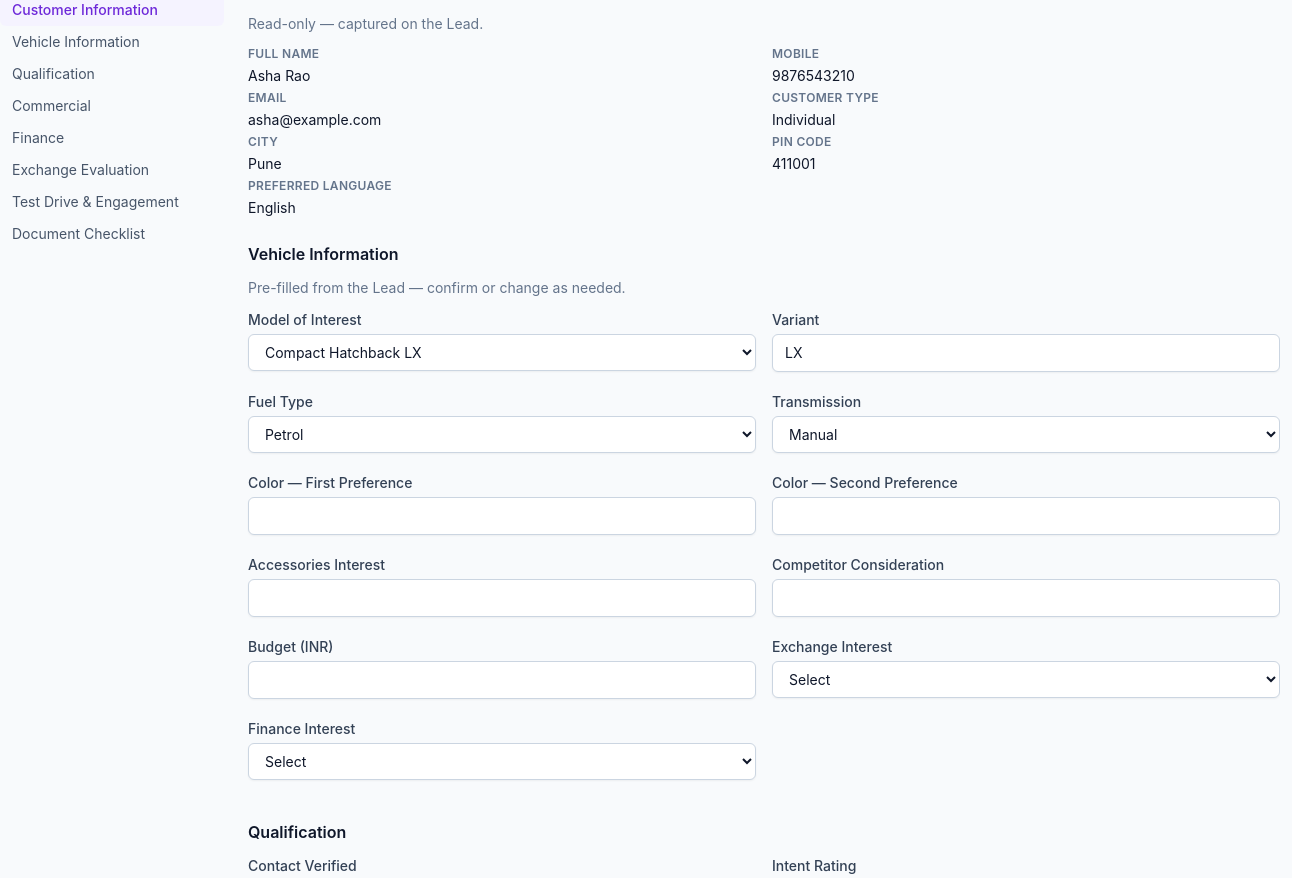
Test case: ConvertLeadForm (issue #124 sectioned rewrite) › EVAL-AC3-07: maps a server 400 field error onto the matching form field
Check: the text "Asha Rao" is shown, box [248,67,310,84]
Type "500000" into the field labelled "Budget (INR)" at point(502, 680), box [248,661,756,699]
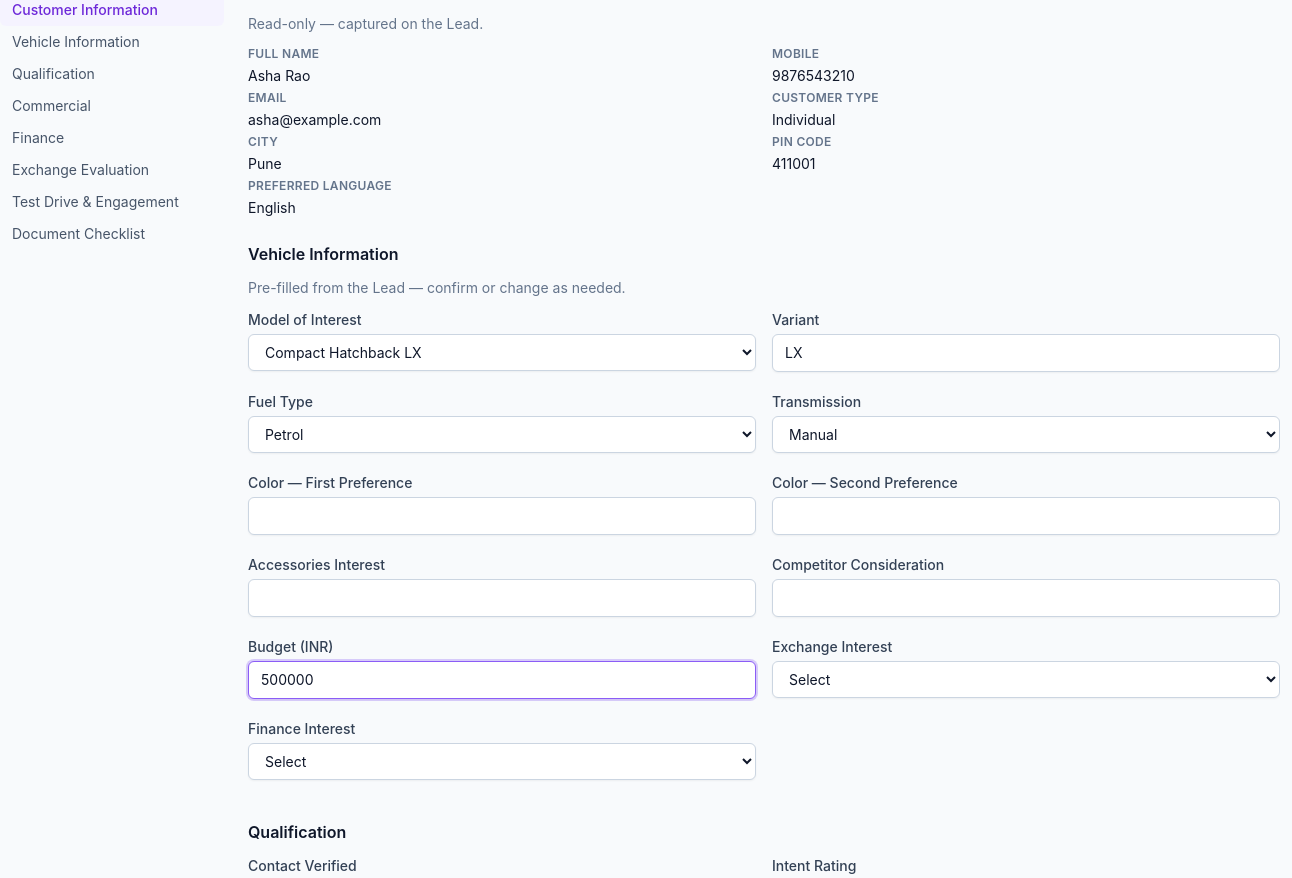
Select "Yes" in the dropdown labelled "Exchange Interest" at point(1026, 680), box [772,661,1280,698]
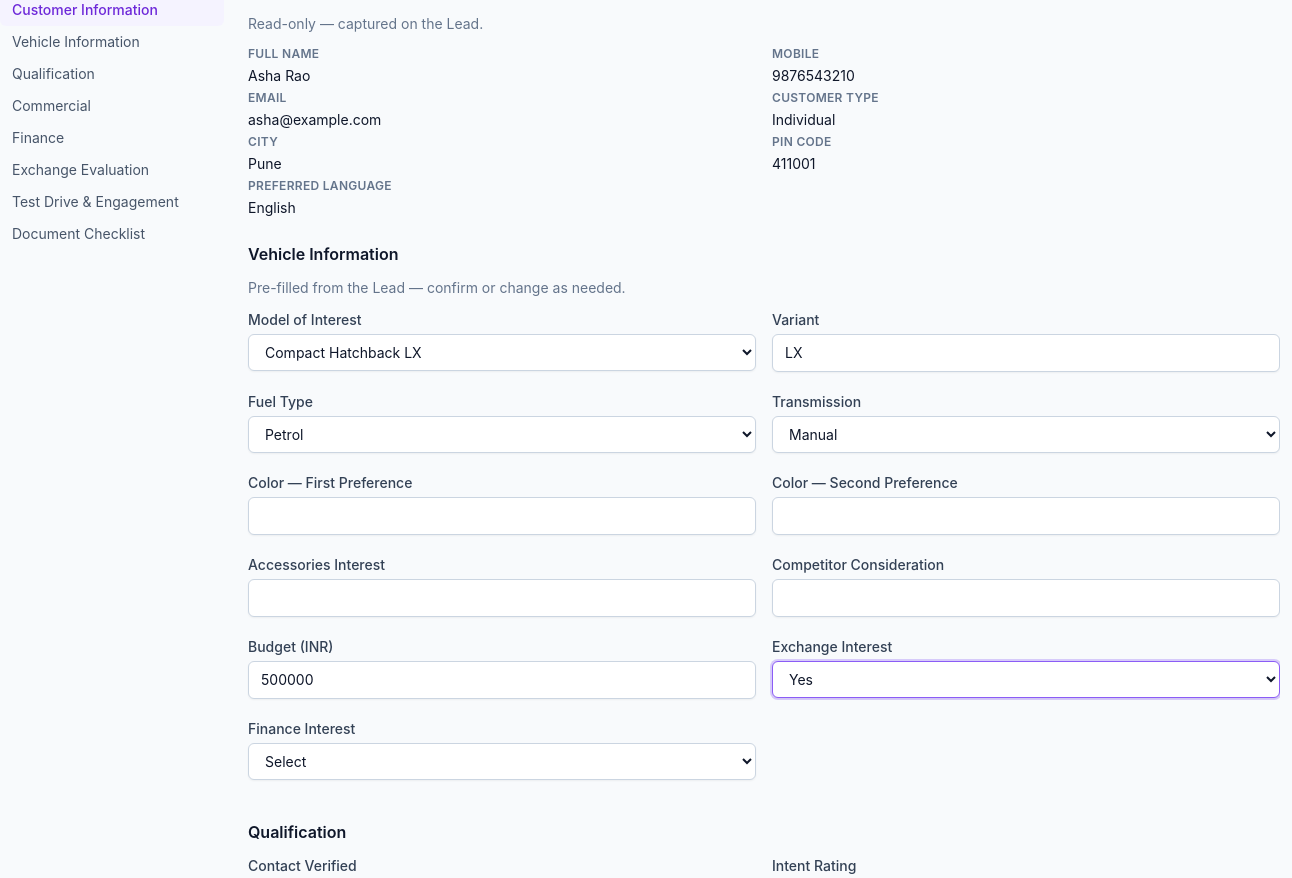
Select "No" in the dropdown labelled "Finance Interest" at point(502, 762), box [248,743,756,780]
(page scrolled)
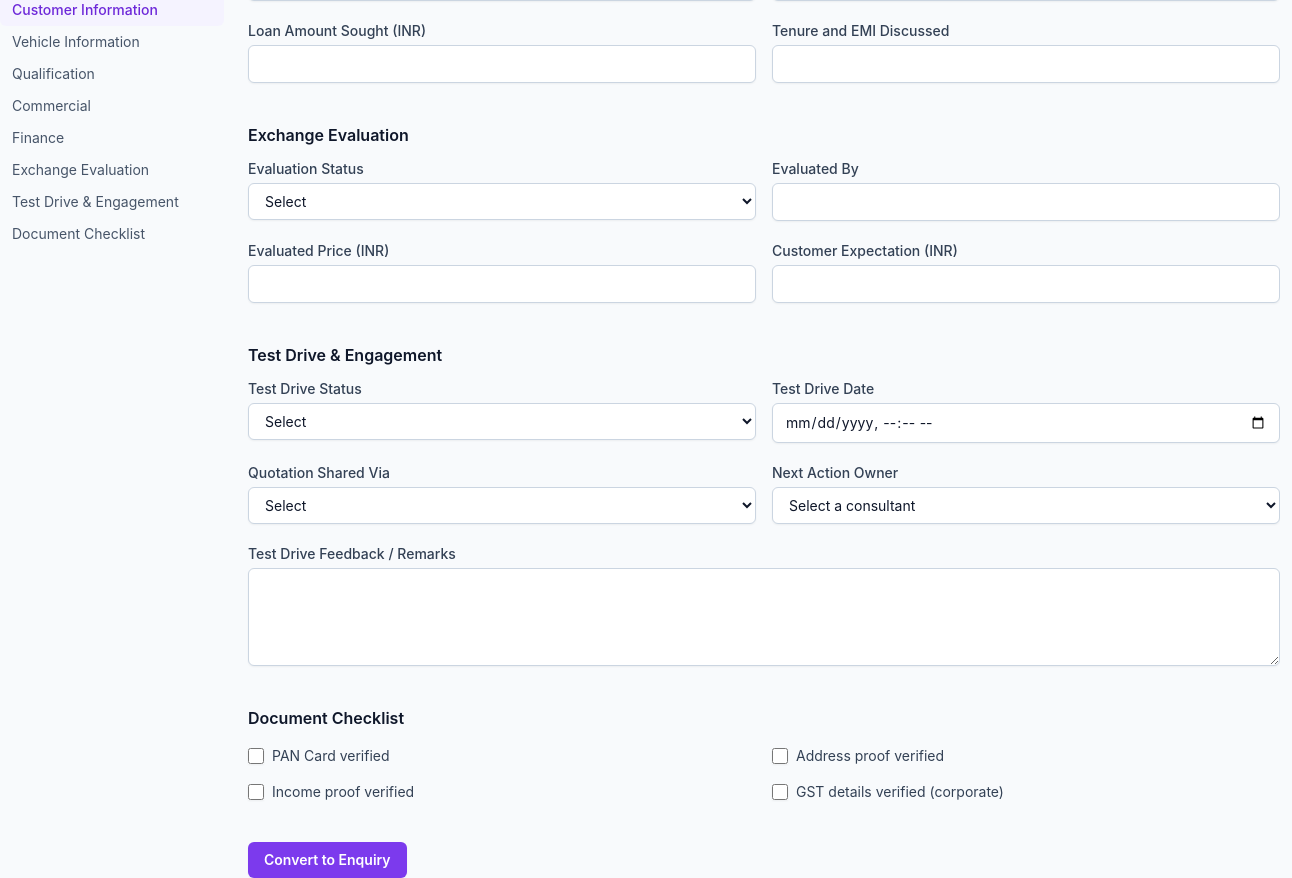
Click the button "Convert to Enquiry" at point(327, 860), box [248,842,407,877]
(page scrolled)
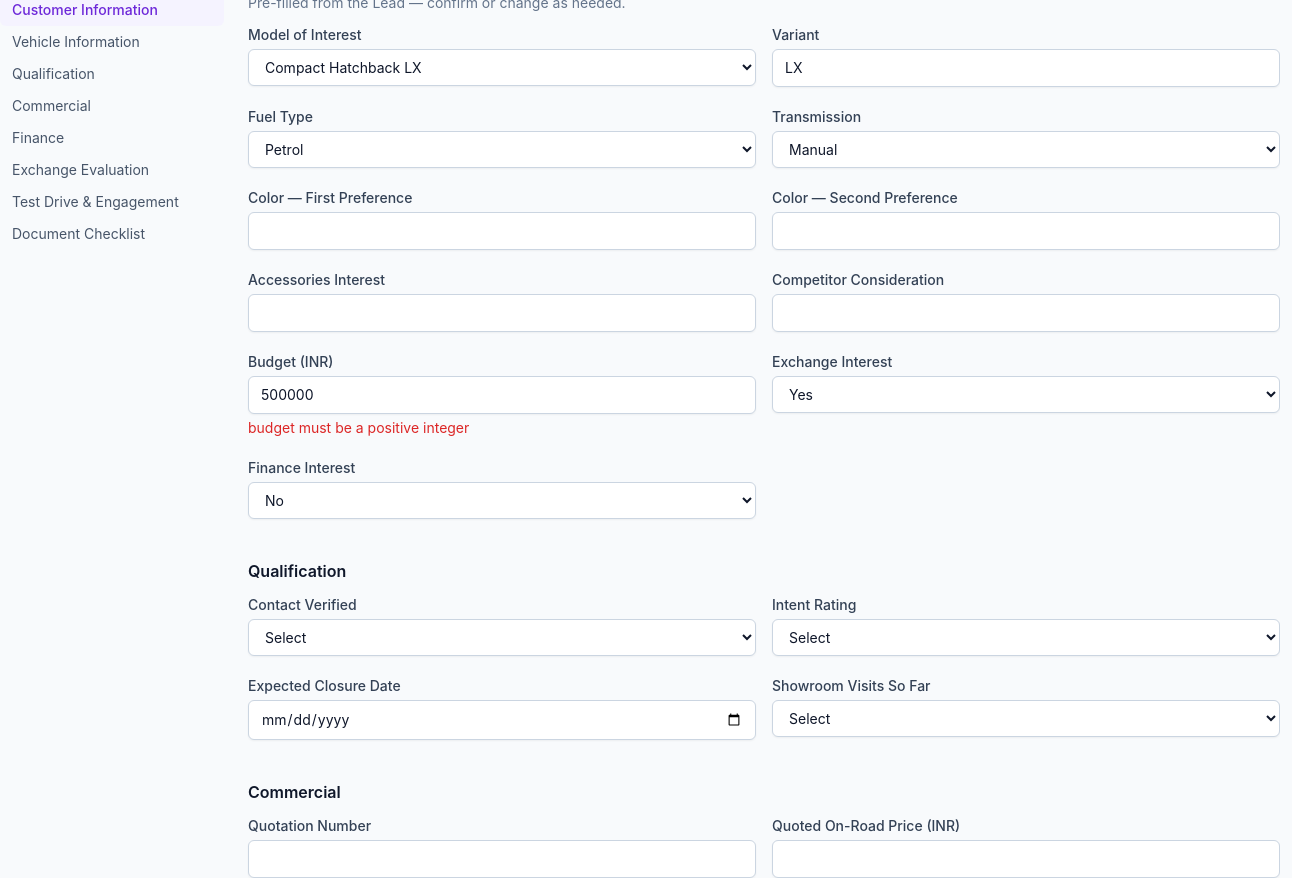
Check: the text "budget must be a positive integer" is shown, box [248,419,469,436]
